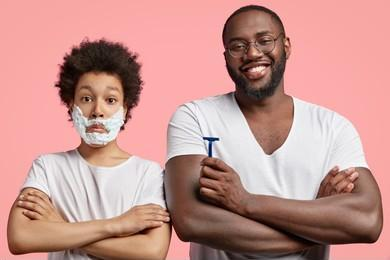face: (223, 13, 286, 103), (72, 79, 126, 147)
